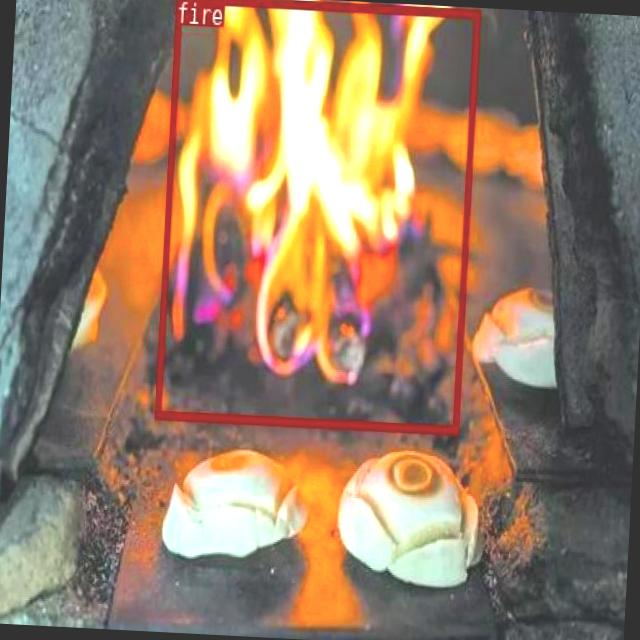fire: (154, 0, 479, 433)
